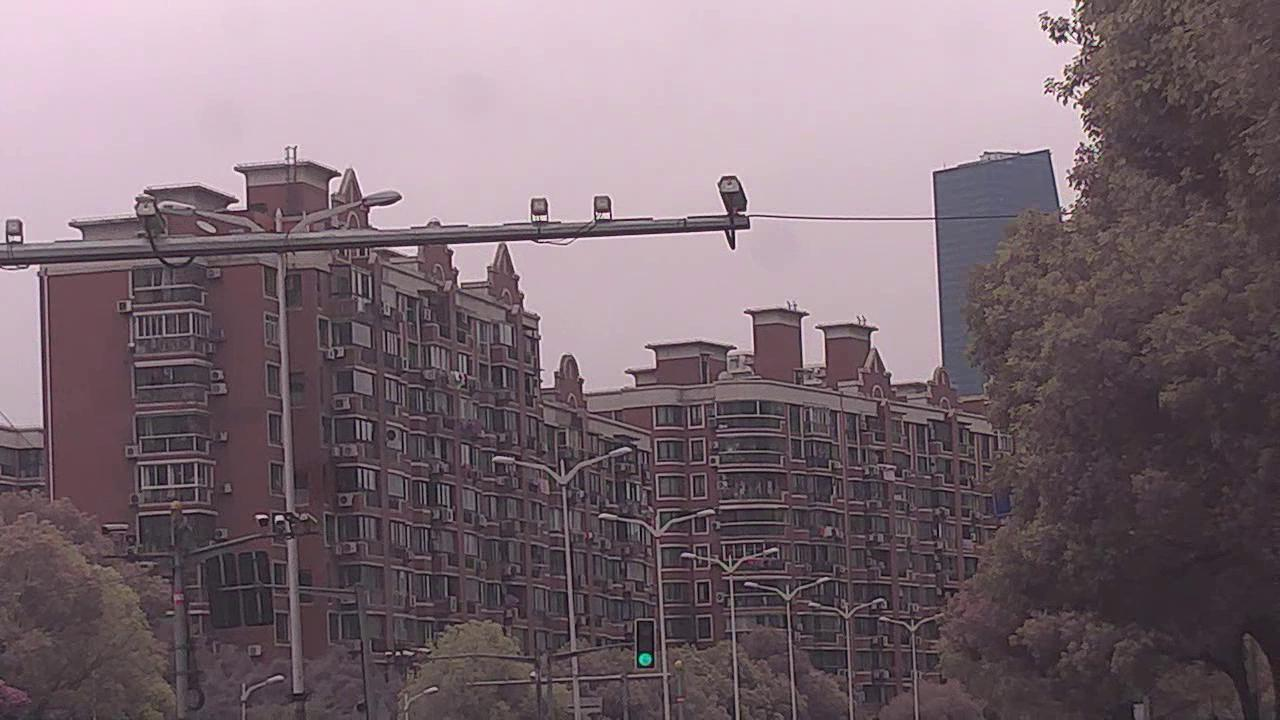traffic_light: (635, 618, 659, 669)
